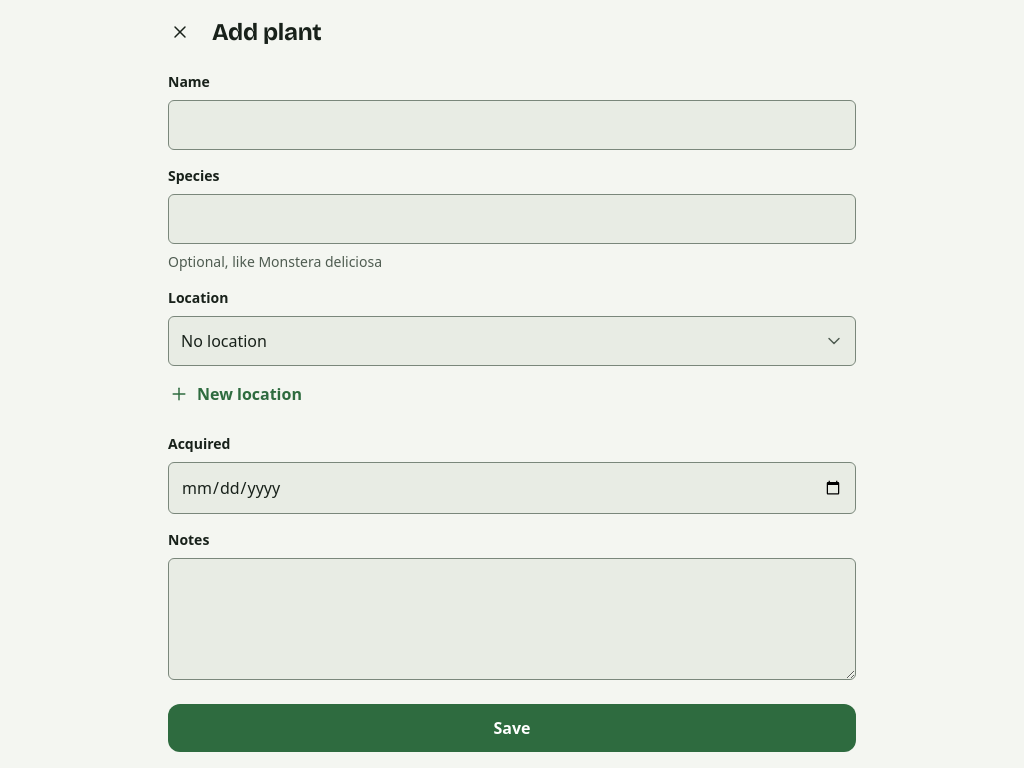
Test case: Plant form › shows the server's problem detail on a 400
Type "Monstera" into the field labelled "Name". click: (512, 125)
box: [168,100,856,150]
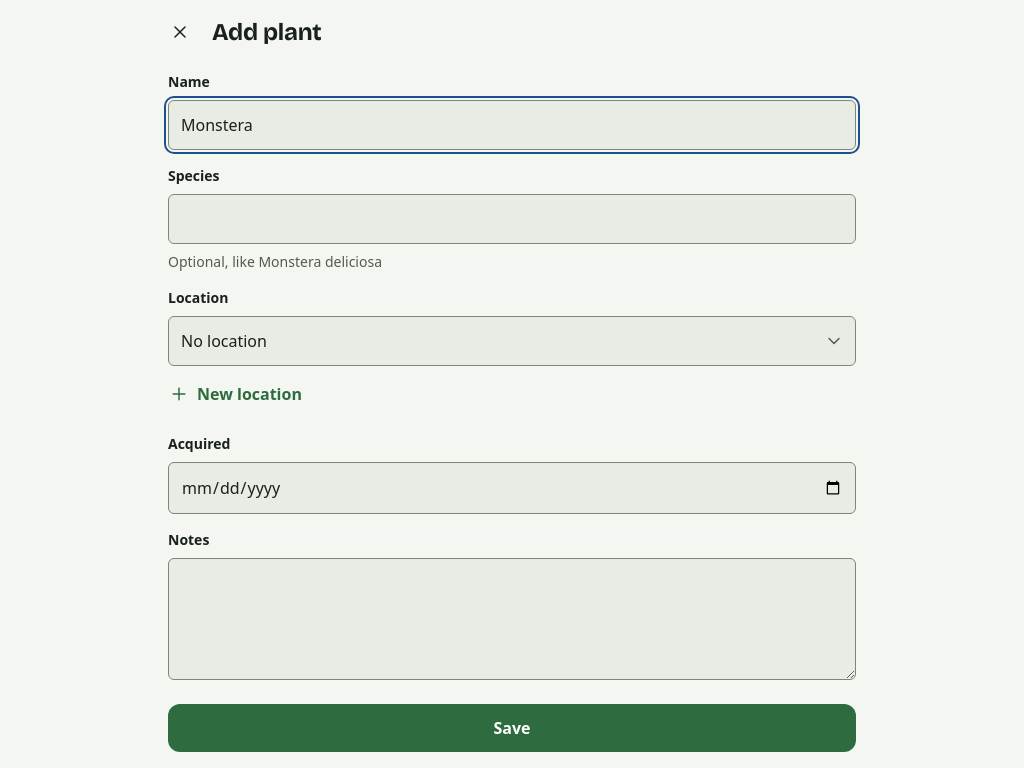
Click the button "Save". click: click(512, 728)
box: [168,704,856,752]
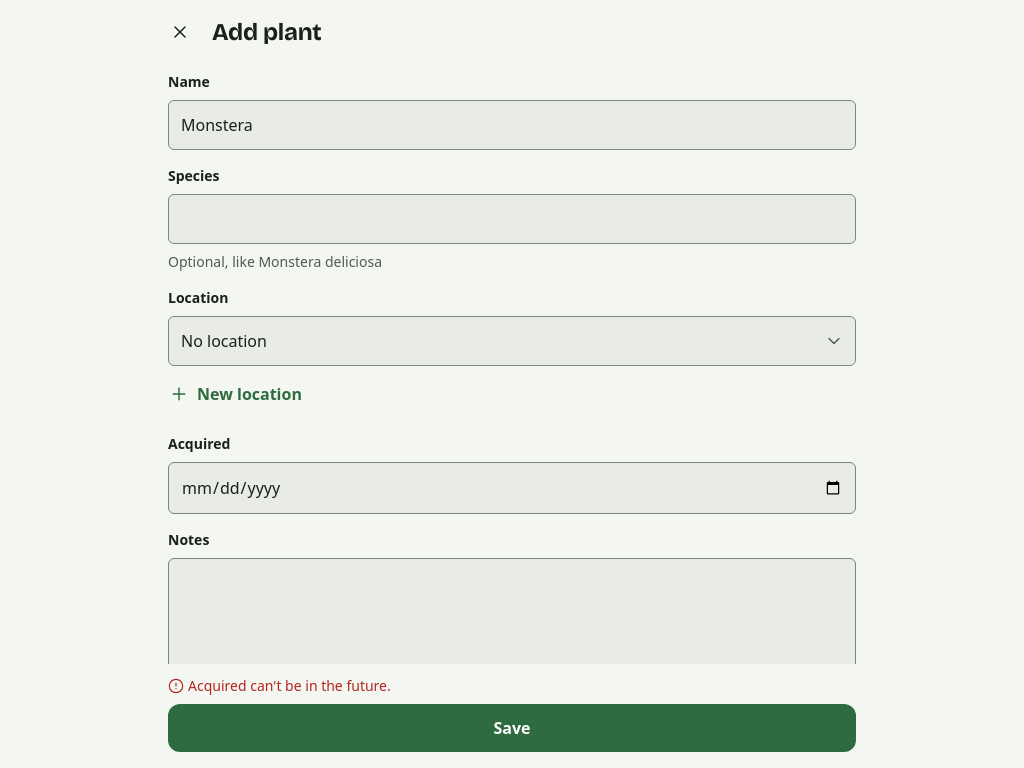
Expected: the message reads "Acquired can't be in the future.", [188,676,391,695]
